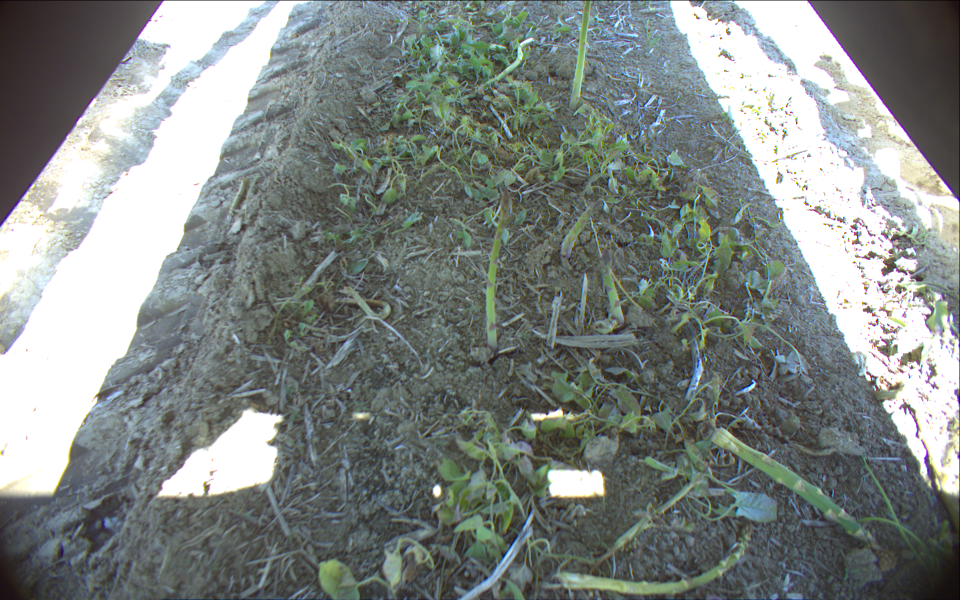aspa: (487, 178, 510, 358), (558, 197, 605, 264), (565, 1, 592, 112), (594, 246, 625, 327)
